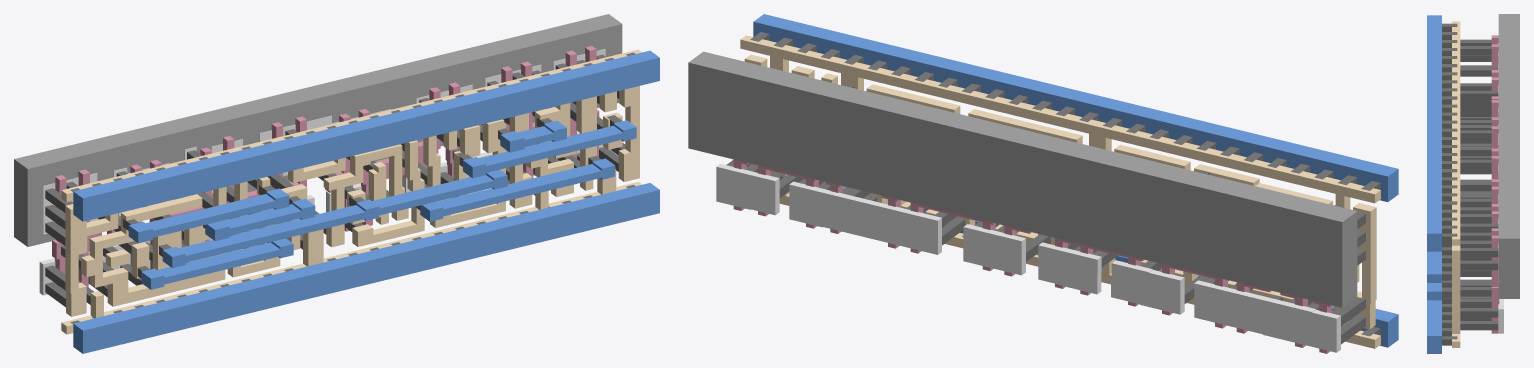
File: sky130_fd_sc_hd__fahcon_1.gds.gltf
The picture shows the model from 3 angles, left to right: view 1: azimuth 30°, elevation 25°; view 2: azimuth 150°, elevation 25°; view 3: azimuth 270°, elevation 25°; orthographic projection. The views are drawn at different scales.
Visible parts, largest first — view 1: sky130_fd_sc_hd__fahcon_1_met1, sky130_fd_sc_hd__fahcon_1_li1, sky130_fd_sc_hd__fahcon_1_nwell, sky130_fd_sc_hd__fahcon_1_licon, sky130_fd_sc_hd__fahcon_1_poly, sky130_fd_sc_hd__fahcon_1_diff, sky130_fd_sc_hd__fahcon_1_mcon; view 2: sky130_fd_sc_hd__fahcon_1_nwell, sky130_fd_sc_hd__fahcon_1_diff, sky130_fd_sc_hd__fahcon_1_li1, sky130_fd_sc_hd__fahcon_1_met1, sky130_fd_sc_hd__fahcon_1_licon, sky130_fd_sc_hd__fahcon_1_mcon, sky130_fd_sc_hd__fahcon_1_poly; view 3: sky130_fd_sc_hd__fahcon_1_licon, sky130_fd_sc_hd__fahcon_1_nwell, sky130_fd_sc_hd__fahcon_1_met1, sky130_fd_sc_hd__fahcon_1_mcon, sky130_fd_sc_hd__fahcon_1_li1, sky130_fd_sc_hd__fahcon_1_poly, sky130_fd_sc_hd__fahcon_1_diff.
Boxes of the visible parts, box(x1,y1,x2,y2) form: sky130_fd_sc_hd__fahcon_1_met1: box(73, 50, 659, 353); sky130_fd_sc_hd__fahcon_1_li1: box(61, 49, 641, 334); sky130_fd_sc_hd__fahcon_1_nwell: box(14, 14, 622, 246); sky130_fd_sc_hd__fahcon_1_licon: box(45, 54, 625, 307); sky130_fd_sc_hd__fahcon_1_poly: box(52, 46, 599, 290); sky130_fd_sc_hd__fahcon_1_diff: box(39, 49, 605, 295); sky130_fd_sc_hd__fahcon_1_mcon: box(70, 52, 635, 324); sky130_fd_sc_hd__fahcon_1_nwell: box(688, 51, 1357, 307); sky130_fd_sc_hd__fahcon_1_diff: box(716, 163, 1340, 352); sky130_fd_sc_hd__fahcon_1_li1: box(740, 35, 1380, 348); sky130_fd_sc_hd__fahcon_1_met1: box(753, 14, 1398, 347); sky130_fd_sc_hd__fahcon_1_licon: box(726, 84, 1365, 344); sky130_fd_sc_hd__fahcon_1_mcon: box(750, 32, 1380, 336); sky130_fd_sc_hd__fahcon_1_poly: box(733, 159, 1332, 353); sky130_fd_sc_hd__fahcon_1_licon: box(1460, 39, 1498, 330); sky130_fd_sc_hd__fahcon_1_nwell: box(1498, 14, 1519, 298); sky130_fd_sc_hd__fahcon_1_met1: box(1427, 15, 1441, 353); sky130_fd_sc_hd__fahcon_1_mcon: box(1442, 23, 1457, 345); sky130_fd_sc_hd__fahcon_1_li1: box(1452, 21, 1460, 347); sky130_fd_sc_hd__fahcon_1_poly: box(1491, 35, 1499, 333); sky130_fd_sc_hd__fahcon_1_diff: box(1498, 43, 1503, 333).
Size of the model in its own units: 12.8 by 3.2 by 2.24.
